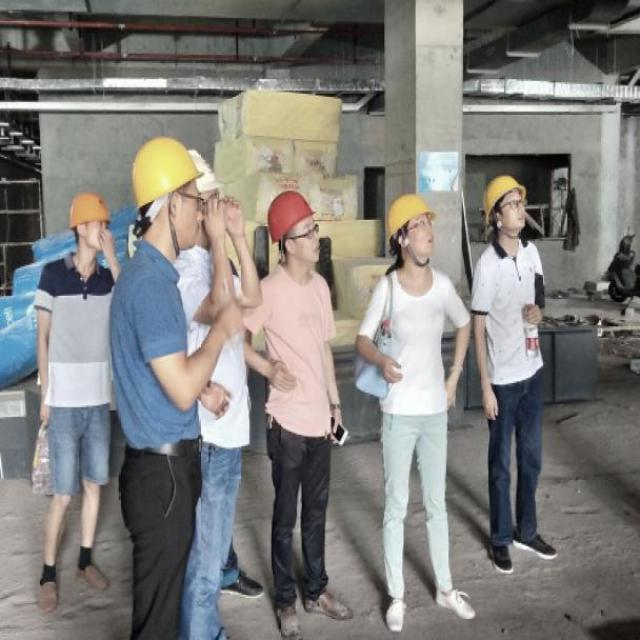helmet: (118, 128, 231, 268), (28, 173, 123, 267), (257, 175, 329, 276), (366, 194, 443, 280), (480, 156, 542, 240)
